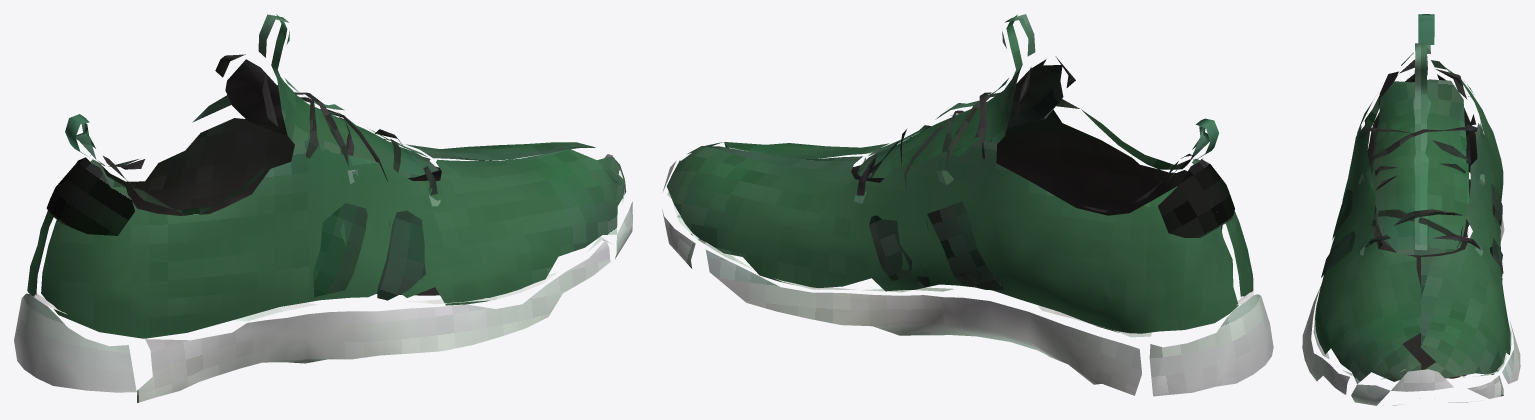
Rendered from shoe-forest-far.glb.
The picture shows the model from 3 angles, left to right: view 1: azimuth 30°, elevation 25°; view 2: azimuth 150°, elevation 25°; view 3: azimuth 270°, elevation 25°; orthographic projection. The views are drawn at different scales.
Visible parts, largest first — view 1: Shoe; view 2: Shoe; view 3: Shoe.
Part boxes in pixels (<box>): Shoe: <box>14,14,632,402</box>; Shoe: <box>662,14,1273,396</box>; Shoe: <box>1302,14,1520,405</box>.
Bounding box in the file's own units: 0.2957 × 0.1512 × 0.1145.
1 material, 1 textured.
